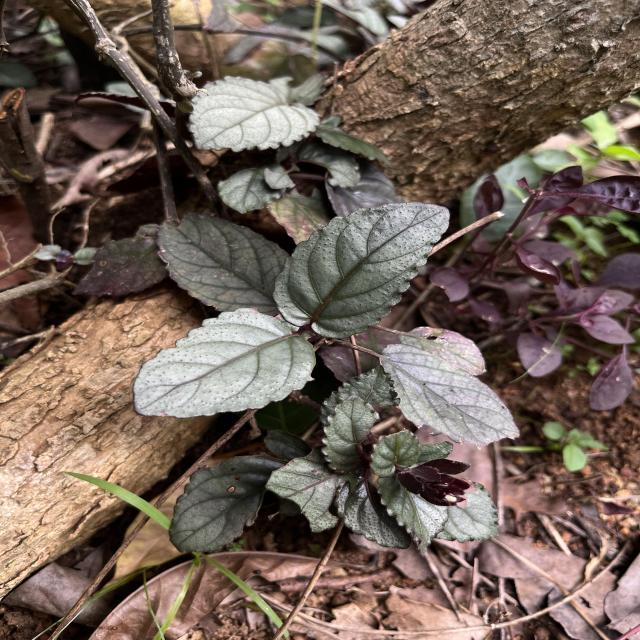Hemigraphis colorata: (268, 198, 453, 342), (129, 303, 319, 421), (376, 336, 524, 454), (151, 208, 292, 314), (182, 71, 325, 155)
